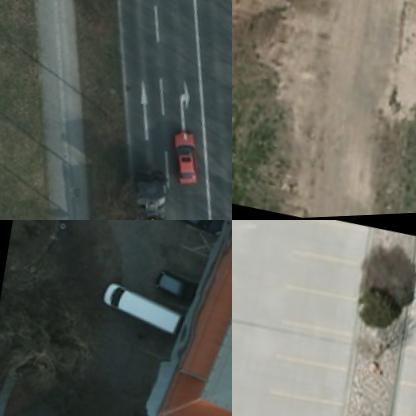car: (148, 266, 206, 316), (164, 134, 208, 190), (167, 220, 231, 237)
van: (98, 278, 190, 338)
